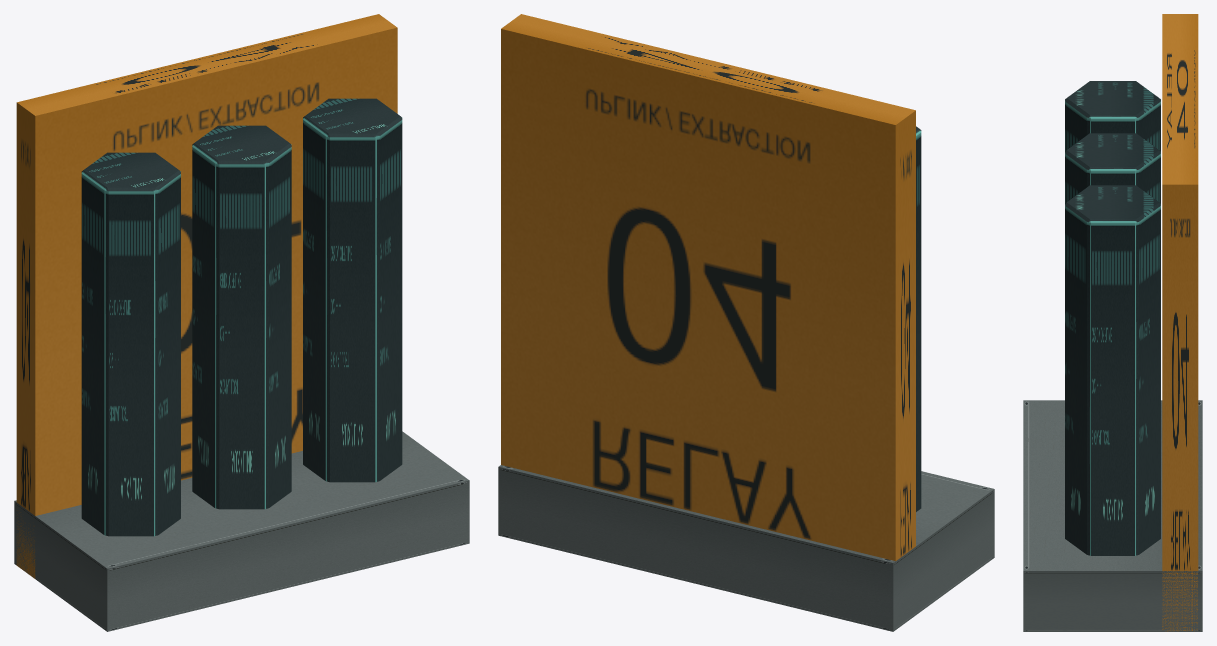
File: oxygen_rack_LOD3.obj
3 renders of one model, left to right at view 1: azimuth 30°, elevation 25°; view 2: azimuth 150°, elevation 25°; view 3: azimuth 270°, elevation 25°, orthographic. The views are drawn at different scales.
Visible parts, largest first — view 1: L02_oxygen_rack_LOD3; view 2: L02_oxygen_rack_LOD3; view 3: L02_oxygen_rack_LOD3.
Boxes of the visible parts, x1,y1,x2,y2 form: L02_oxygen_rack_LOD3: [14, 14, 469, 631]; L02_oxygen_rack_LOD3: [498, 14, 994, 631]; L02_oxygen_rack_LOD3: [1023, 14, 1202, 631].
Size of the model in its own units: 1.8 by 2.2 by 0.8.
Materials: 1 (1 with a texture image).
